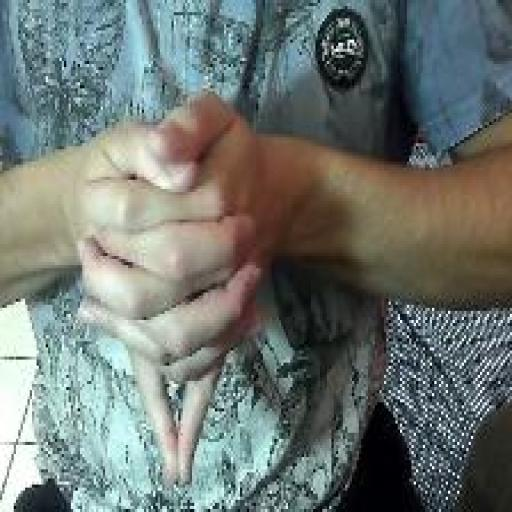Tatsu -dragon-: (72, 85, 271, 494)
